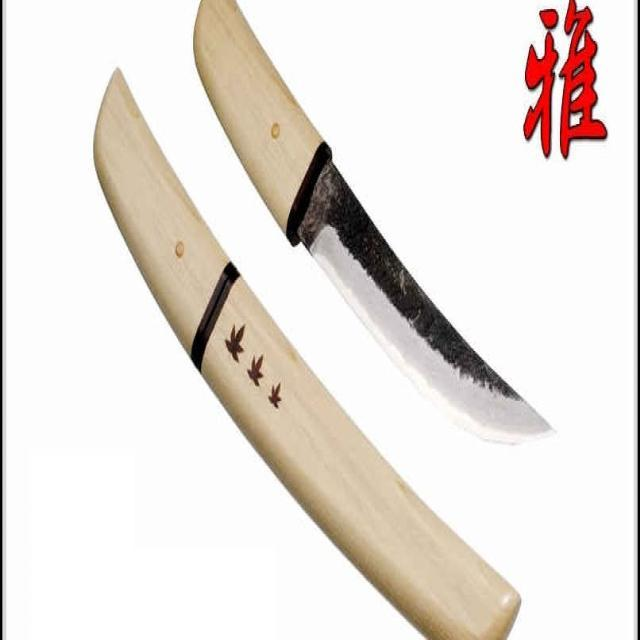Pisau: (189, 0, 558, 464)
